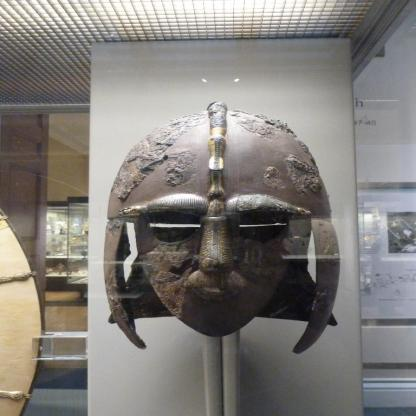Helmet: (78, 108, 356, 350)
